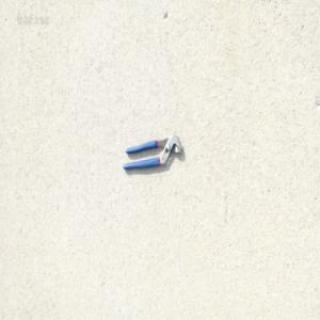Pliertrack_idkeyframe: (120, 132, 182, 172)
